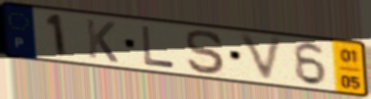1: (44, 13, 69, 59)
6: (291, 41, 330, 88)
K: (83, 17, 120, 65)
L: (139, 24, 177, 70)
S: (183, 28, 229, 77)
V: (236, 31, 288, 86)
